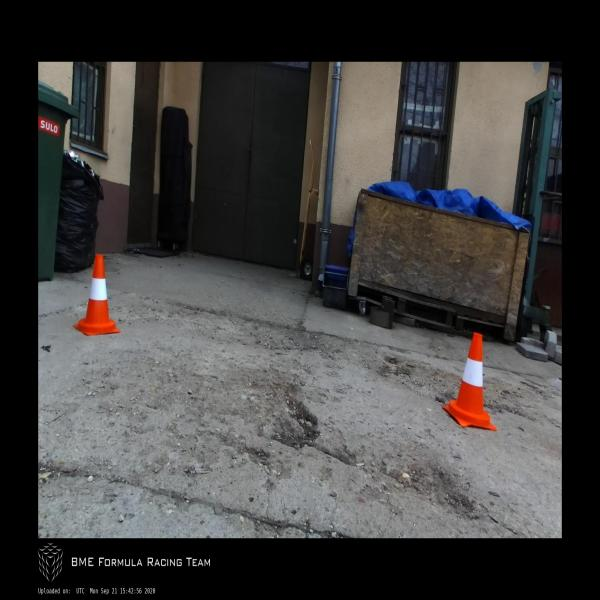orange_cone: (443, 333, 497, 432), (73, 254, 120, 335)
